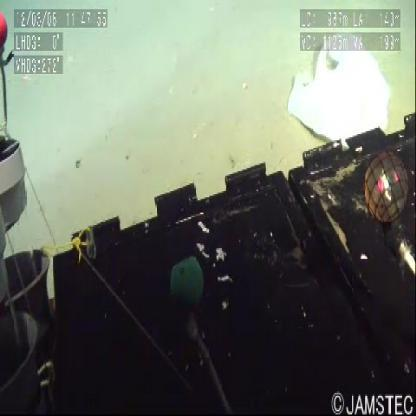Rác: (288, 51, 390, 142)
